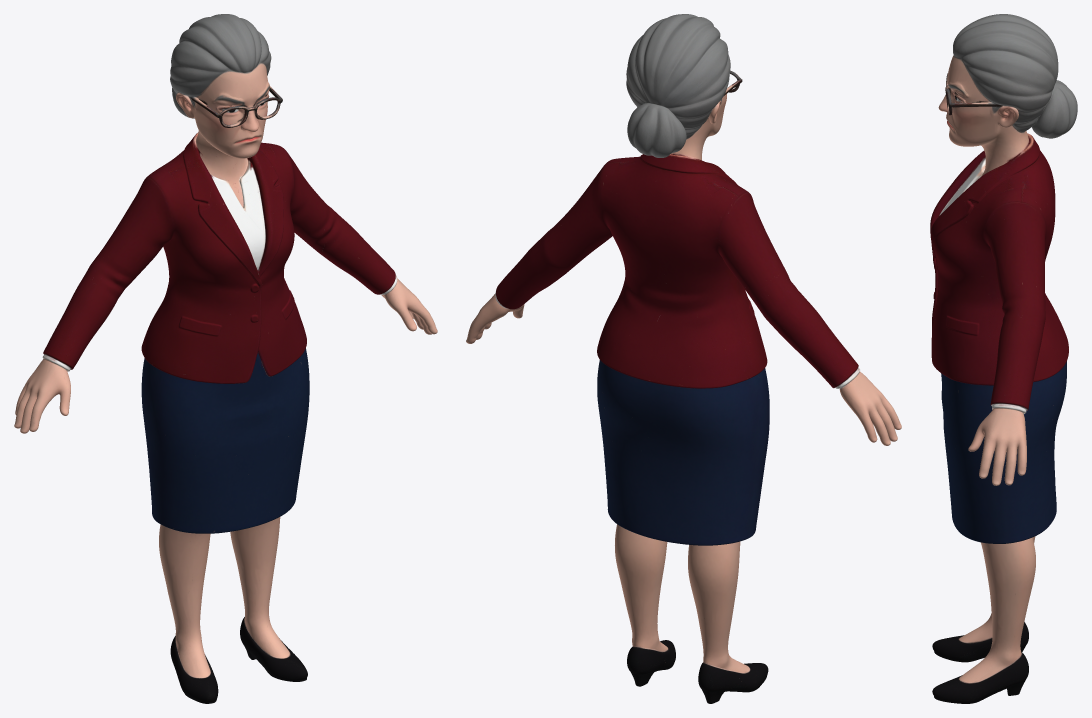
The model's file is teacher.glb.
3 views of the same model, side by side, from view 1: azimuth 30°, elevation 25°; view 2: azimuth 150°, elevation 25°; view 3: azimuth 270°, elevation 25° (orthographic). The views are drawn at different scales.
Bounding box in the file's own units: 1.26 × 1.9 × 0.3862.
Materials: 1 (1 with a texture image).
